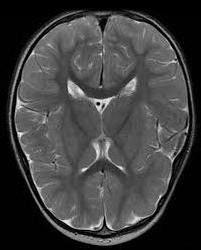Normal_Brain: (6, 2, 199, 250)
